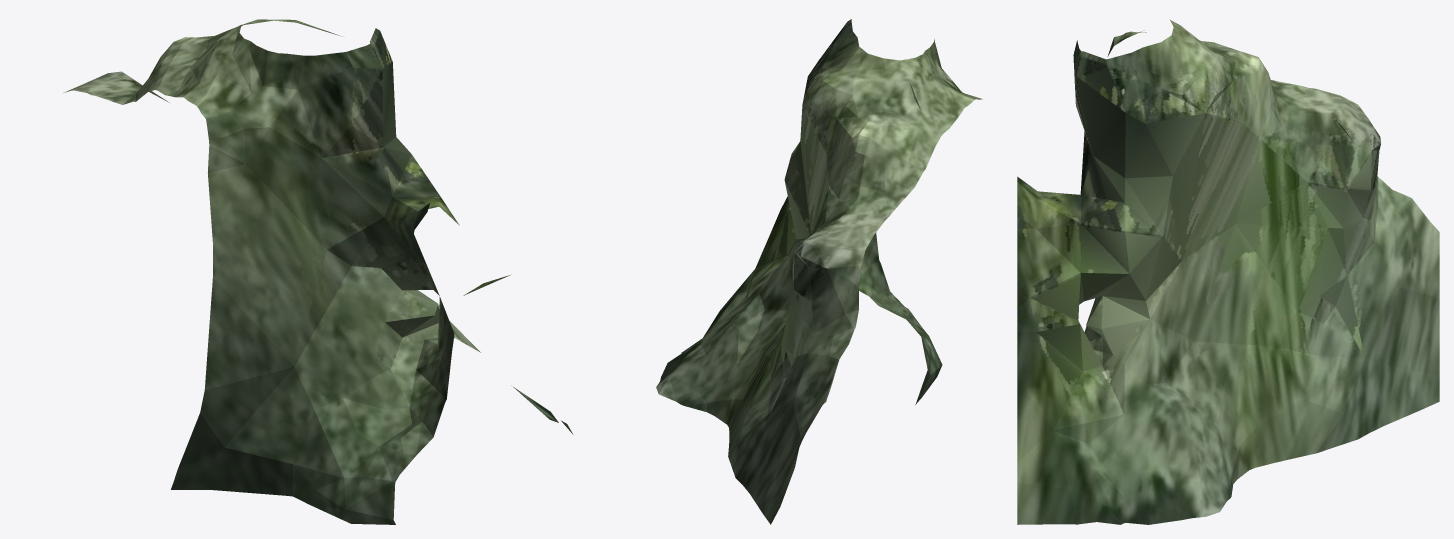
3 renders of one model, left to right at view 1: azimuth 30°, elevation 25°; view 2: azimuth 150°, elevation 25°; view 3: azimuth 270°, elevation 25°, orthographic. The views are drawn at different scales.
Size of the model in its own units: 2.5 by 2.95 by 2.95.
Materials: 4 (4 with a texture image).
